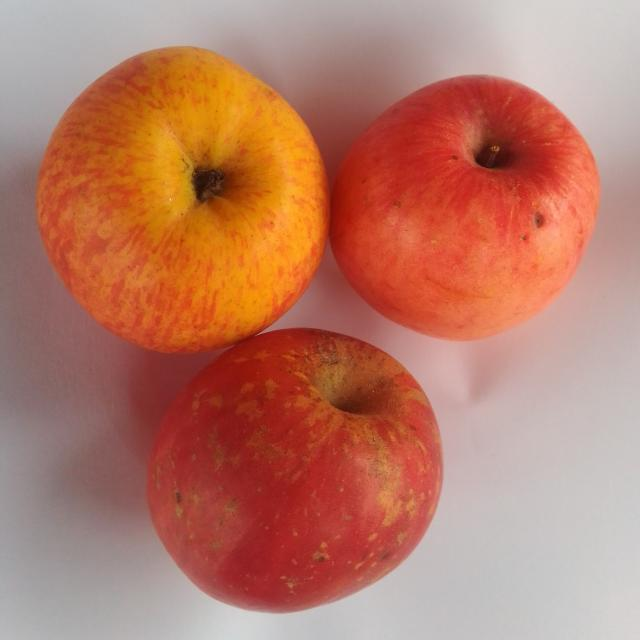Fresh Apple: (40, 47, 317, 335), (158, 347, 435, 605), (345, 76, 597, 326)
